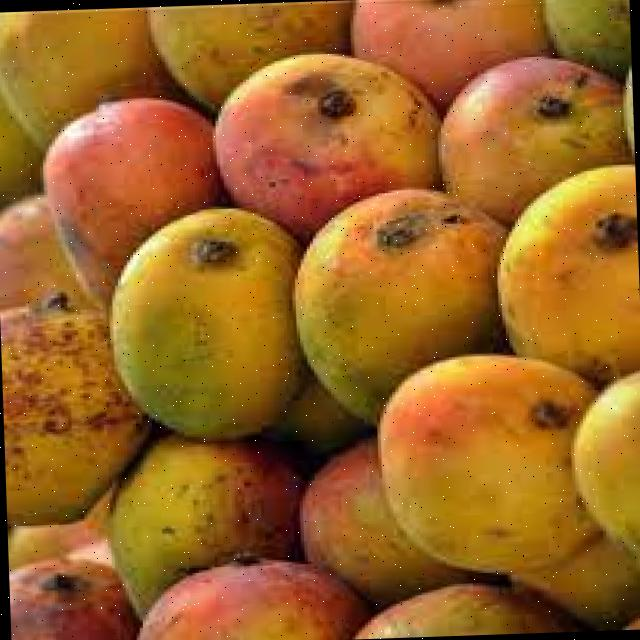mango: (112, 207, 314, 441)
